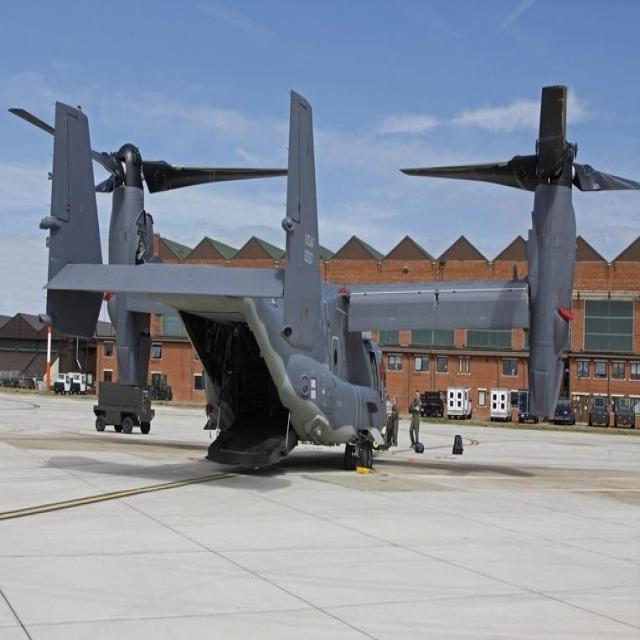MIL_Plane: (7, 82, 640, 470)
